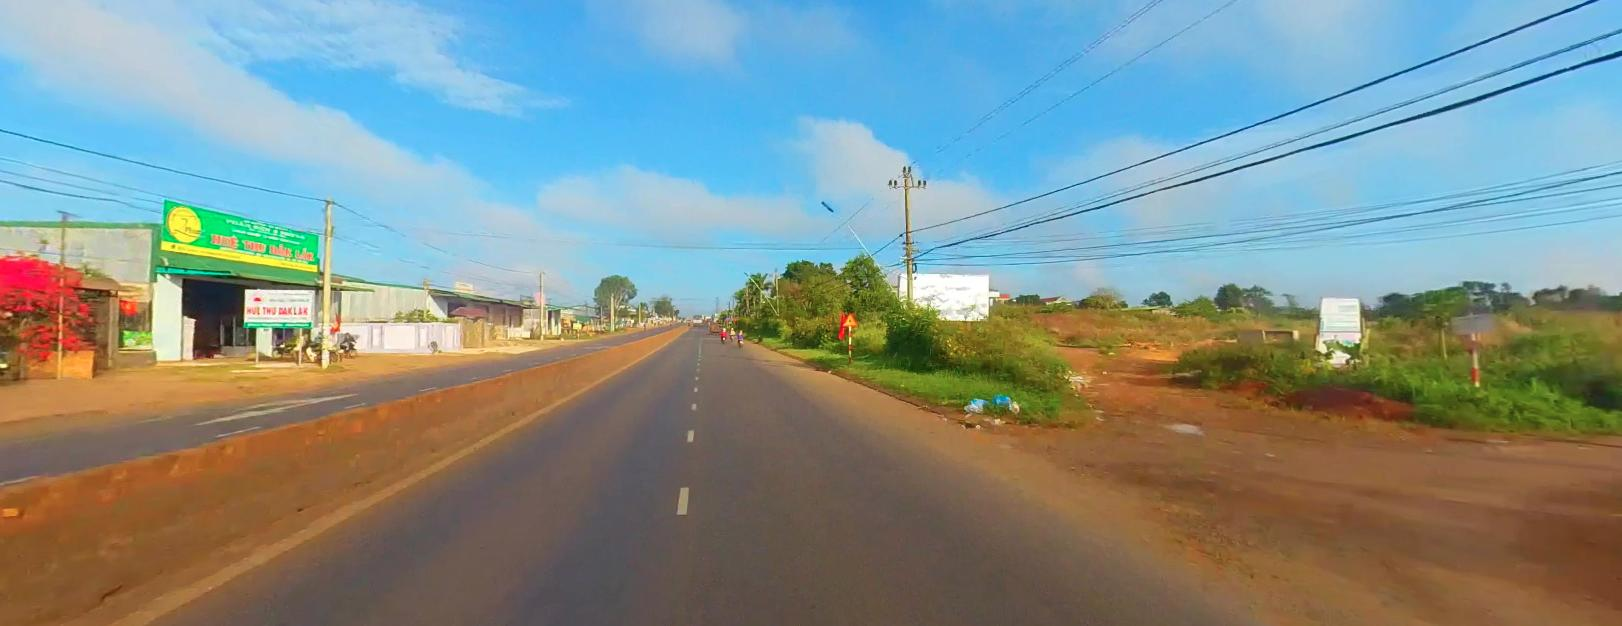Nguy hiem: (841, 311, 858, 326)
